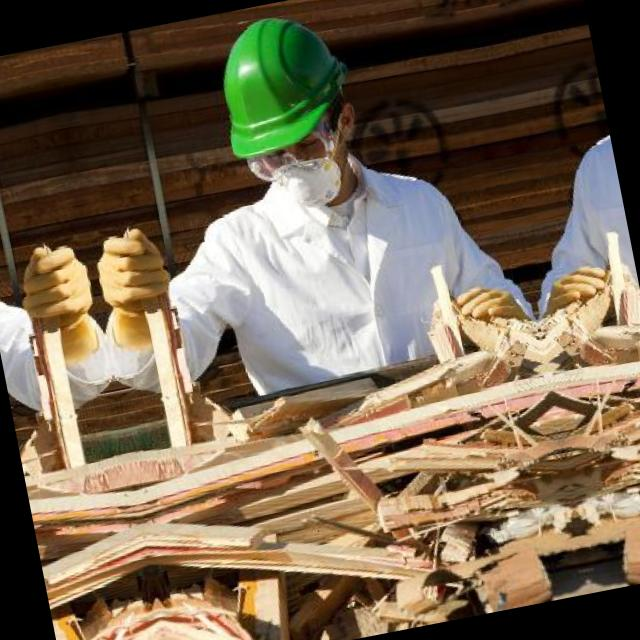helmet: (179, 0, 387, 226)
